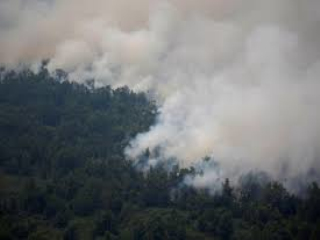smoke: (121, 101, 258, 188), (12, 31, 161, 103)
